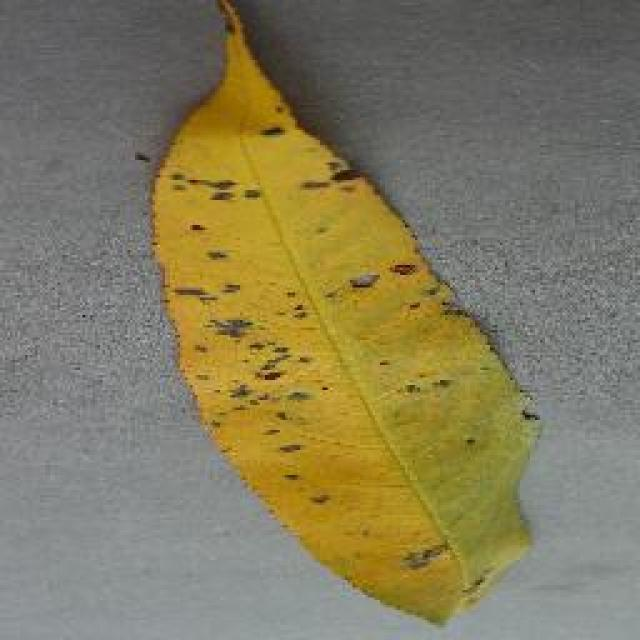Peach_Bacterial_Spot: (152, 109, 502, 528)
